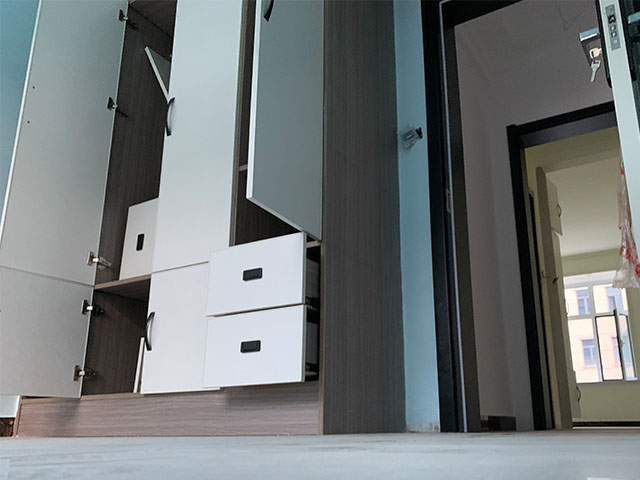cabinet: (1, 158, 366, 436)
